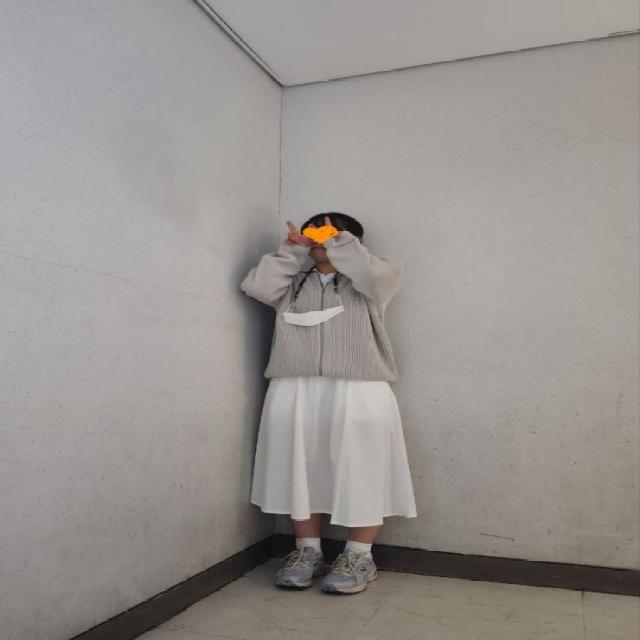cardigan: (238, 241, 411, 379)
skirt: (250, 376, 418, 528)
